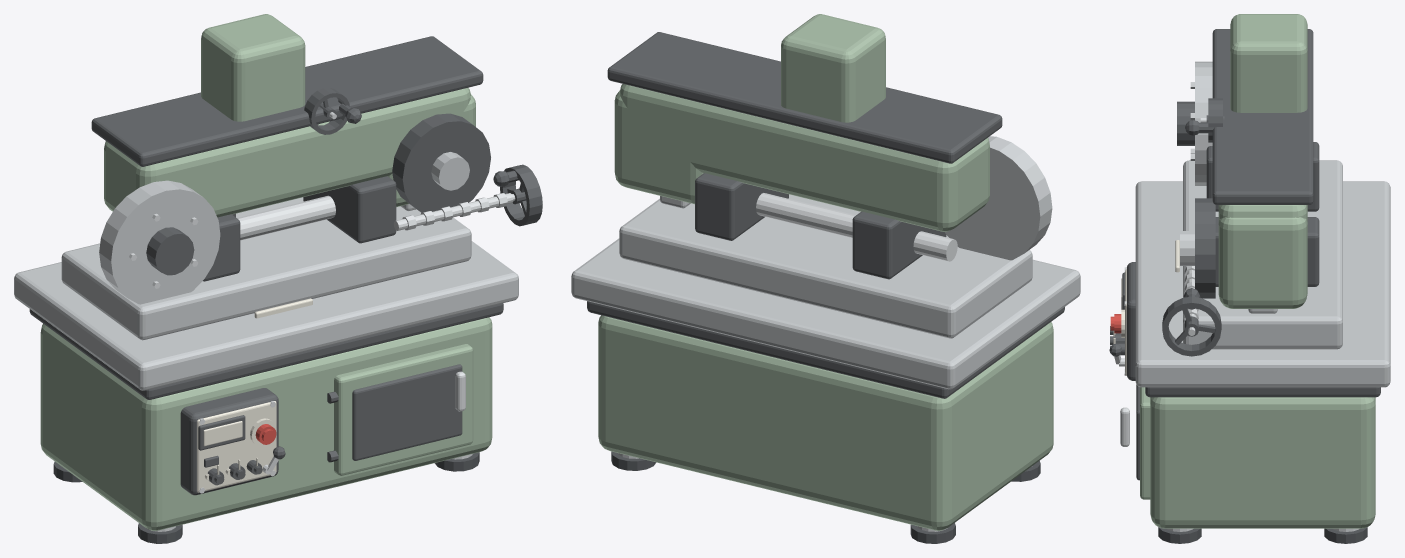
The model's file is horizontal-metal-cutting-bandsaw.glb.
3 renders of one model, left to right at view 1: azimuth 30°, elevation 25°; view 2: azimuth 150°, elevation 25°; view 3: azimuth 270°, elevation 25°, orthographic. The views are drawn at different scales.
Visible parts, largest first — view 1: machine-shop-and-factory-hall-horizontal-bandsaw, arm-raise/enamel, arm-raise/charcoal, blade-wheel-spin/cast, blade-wheel-spin/charcoal, arm-raise/cast; view 2: machine-shop-and-factory-hall-horizontal-bandsaw, arm-raise/enamel, arm-raise/charcoal, blade-wheel-spin/cast; view 3: machine-shop-and-factory-hall-horizontal-bandsaw, arm-raise/enamel, arm-raise/charcoal, blade-wheel-spin/cast, blade-wheel-spin/charcoal, arm-raise/cast.
Part boxes in pixels (x1,y1,x2,y2): machine-shop-and-factory-hall-horizontal-bandsaw: [14, 164, 542, 543]; arm-raise/enamel: [104, 14, 475, 217]; arm-raise/charcoal: [91, 36, 490, 217]; blade-wheel-spin/cast: [99, 180, 220, 304]; blade-wheel-spin/charcoal: [146, 227, 194, 275]; arm-raise/cast: [431, 152, 469, 190]; machine-shop-and-factory-hall-horizontal-bandsaw: [571, 173, 1080, 543]; arm-raise/enamel: [614, 14, 989, 231]; arm-raise/charcoal: [607, 32, 1002, 163]; blade-wheel-spin/cast: [945, 136, 1052, 260]; machine-shop-and-factory-hall-horizontal-bandsaw: [1109, 142, 1390, 543]; arm-raise/enamel: [1218, 14, 1307, 308]; arm-raise/charcoal: [1185, 29, 1313, 298]; blade-wheel-spin/cast: [1195, 61, 1212, 185]; blade-wheel-spin/charcoal: [1177, 101, 1194, 145]; arm-raise/cast: [1180, 231, 1194, 265].
Size of the model in its own units: 1.62 by 1.6 by 0.9481.
